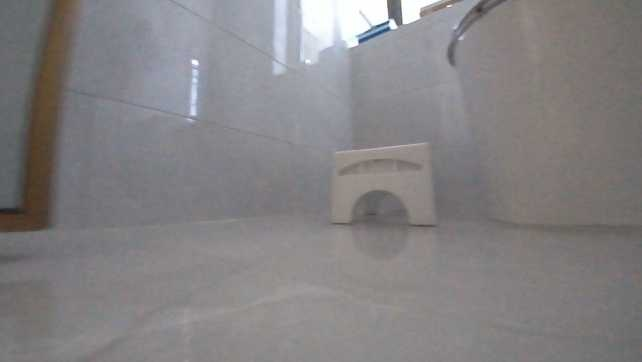plastic_stool: (327, 140, 442, 229)
toilet: (444, 0, 640, 234)
